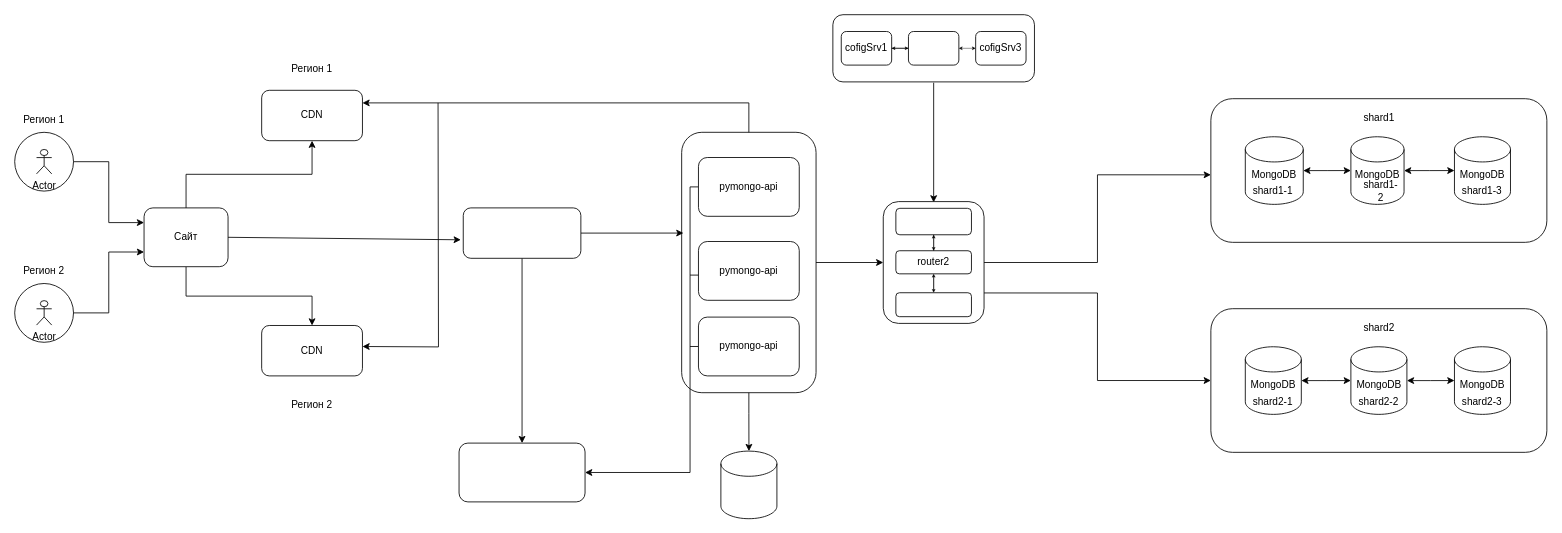
The diagram is 1562 pixels wide and 533 high, and some of its shapes have lost their labels. The shapes that lost their labels are listed below. From the top down, each one's centre as x and y in pixels, then its label:
At (933,48): "cofigSrv2".
At (521,232): "API Gateway".
At (933,221): "router1".
At (933,304): "router3".
At (521,472): "Consul".
At (748,484): "Redis".
